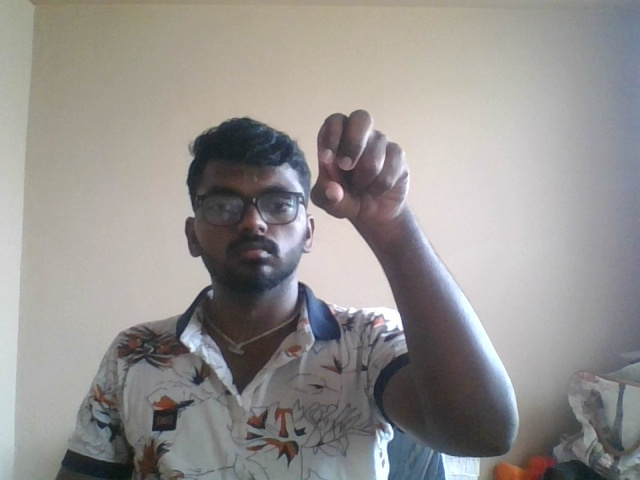No: (302, 85, 447, 263)
